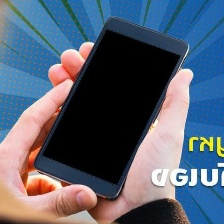phone: (27, 14, 193, 205)
